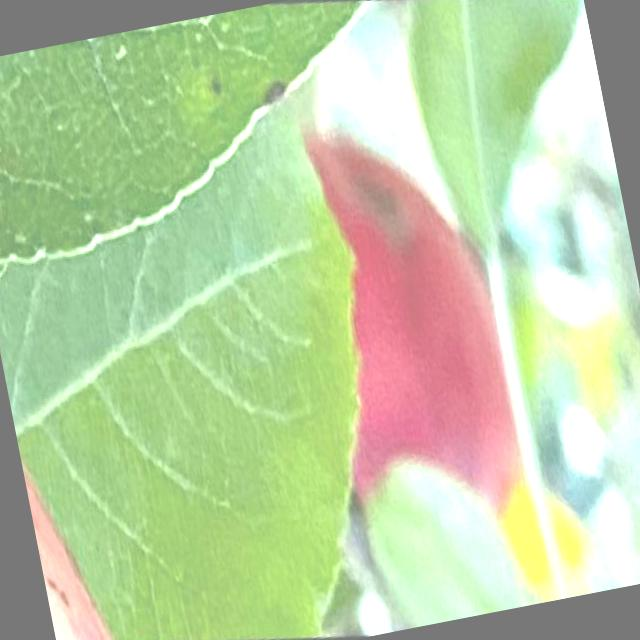Apple: (282, 107, 544, 548)
